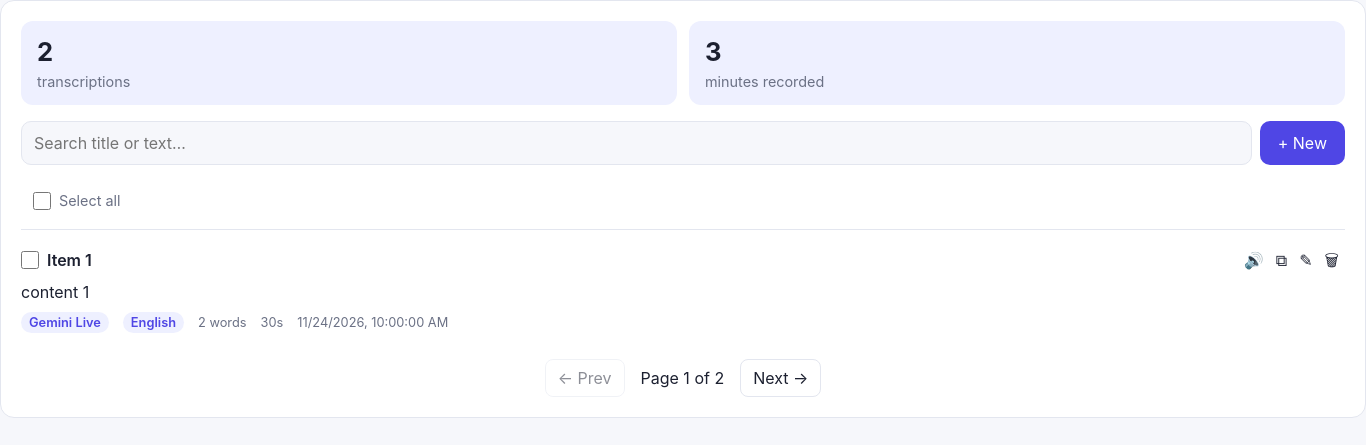
Test: HistoryDashboard › multi-select › resets the selection when the page changes
The width and height of the screenshot is (1366, 445).
Expected: the button "Item 1" is shown, [47,248,1230,272]
Click the checkbox named "Select Item 1".
click(30, 260)  # box [21,251,39,269]
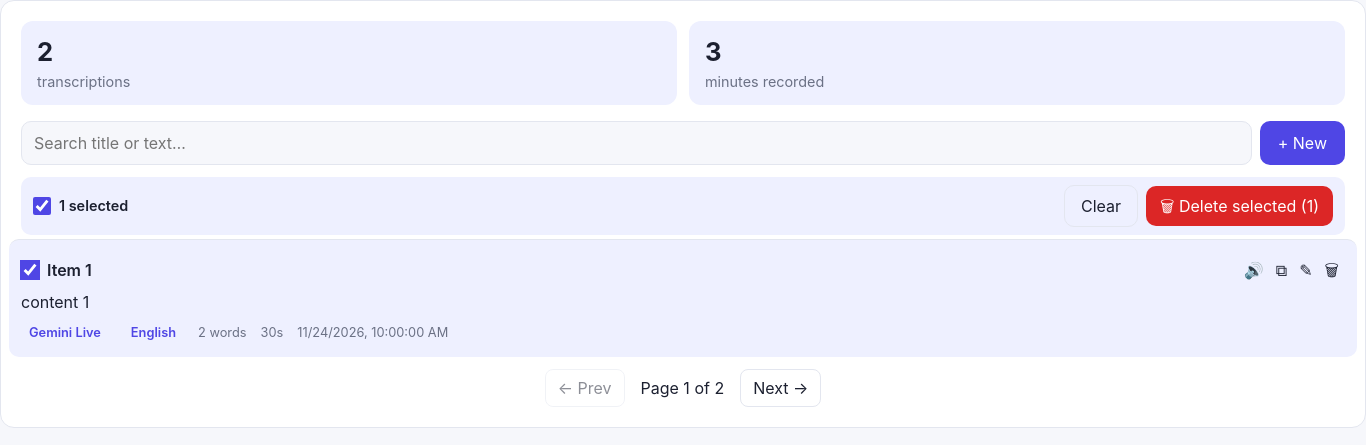
Result: the text "1 selected" is shown at [59,195,128,217]
Click the button "Next →".
click(781, 388)  # box [740,369,821,407]
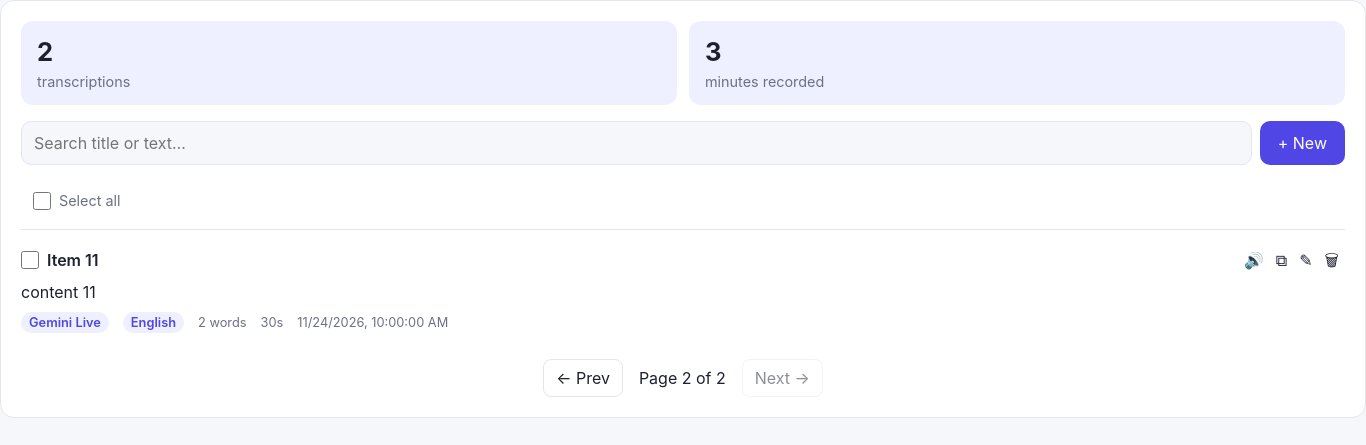
Result: the button "Item 11" is shown at [47,248,1230,272]
Result: the text "Select all" is shown at [59,190,120,212]
